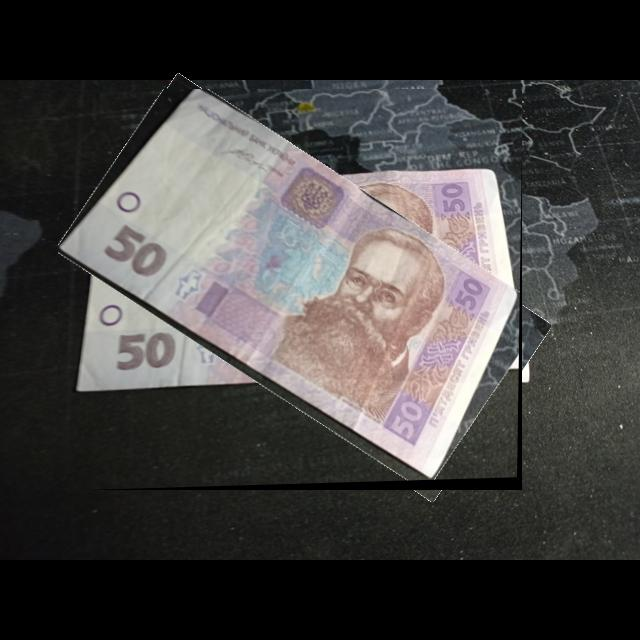50uah: (58, 89, 522, 483)
